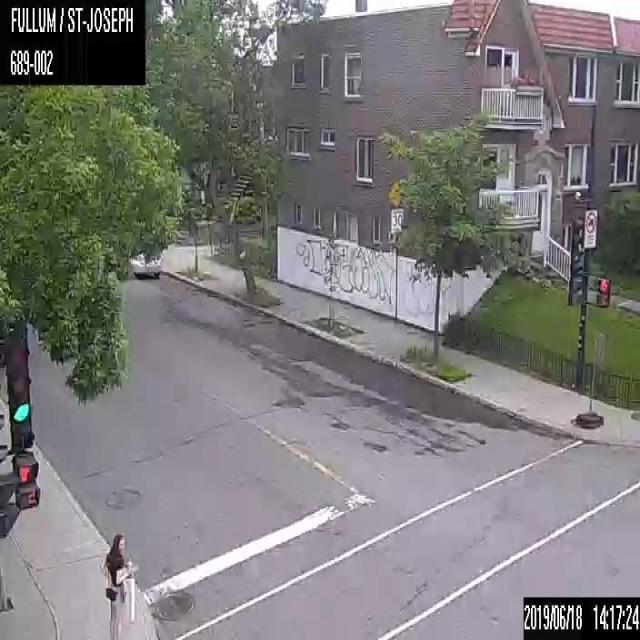construction: (574, 330, 604, 427)
pedestrian: (101, 530, 138, 638)
vehicle: (129, 253, 162, 276)
